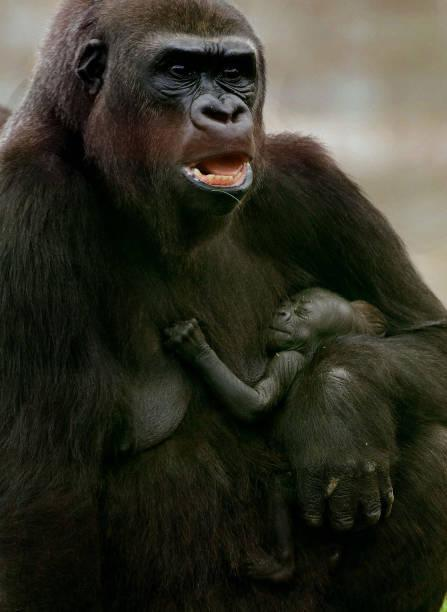gorille_Autres: (0, 2, 447, 612)
